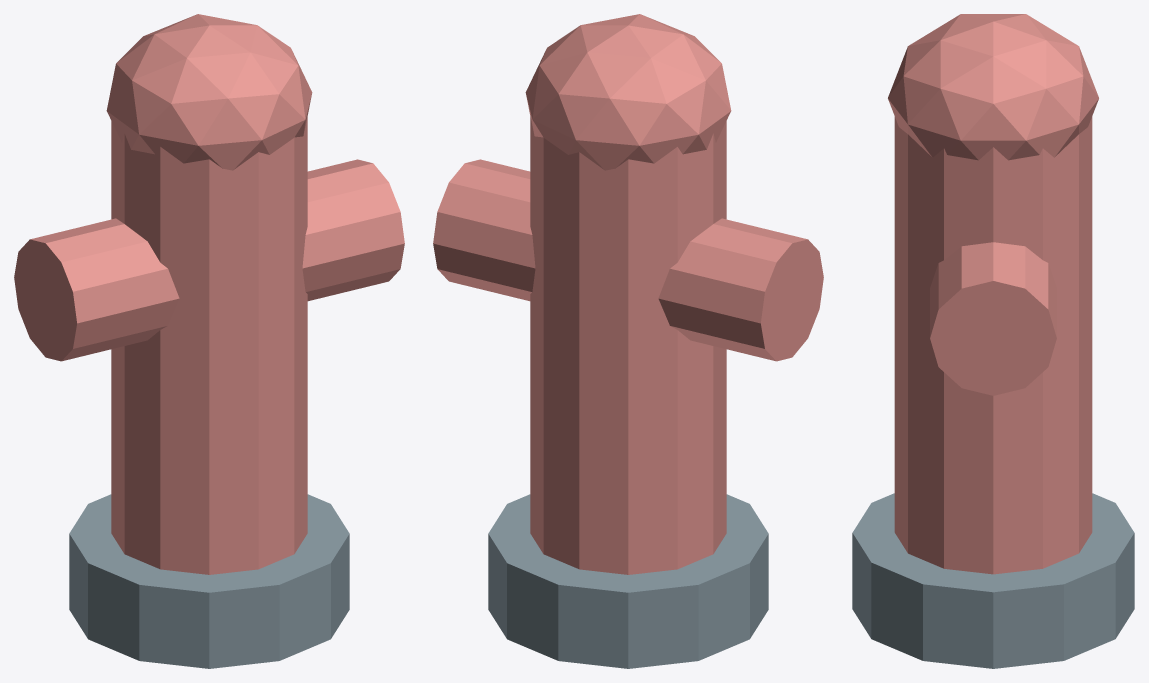
File: hydrant.glb
3 renders of one model, left to right at view 1: azimuth 30°, elevation 25°; view 2: azimuth 150°, elevation 25°; view 3: azimuth 270°, elevation 25°, orthographic.
Visible parts, largest first — view 1: hydrant_000, hydrant_003, hydrant_002, hydrant_001; view 2: hydrant_000, hydrant_003, hydrant_002, hydrant_001; view 3: hydrant_000, hydrant_003, hydrant_001, hydrant_002.
Boxes of the visible parts, x1=… form: hydrant_000: x1=111, y1=116, x2=307, y2=574; hydrant_003: x1=69, y1=494, x2=349, y2=668; hydrant_002: x1=14, y1=159, x2=404, y2=361; hydrant_001: x1=106, y1=14, x2=312, y2=170; hydrant_000: x1=530, y1=116, x2=726, y2=574; hydrant_003: x1=488, y1=494, x2=768, y2=668; hydrant_002: x1=433, y1=159, x2=823, y2=361; hydrant_001: x1=525, y1=14, x2=731, y2=170; hydrant_000: x1=894, y1=117, x2=1092, y2=574; hydrant_003: x1=852, y1=493, x2=1134, y2=668; hydrant_001: x1=888, y1=14, x2=1098, y2=160; hydrant_002: x1=930, y1=242, x2=1056, y2=395.
Bounding box in the file's own units: 0.54 × 0.92 × 0.4.
